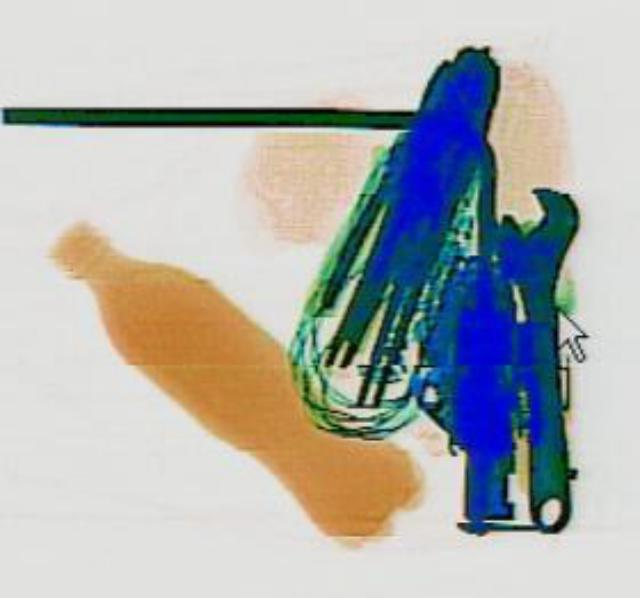Wrench: (492, 183, 586, 531)
